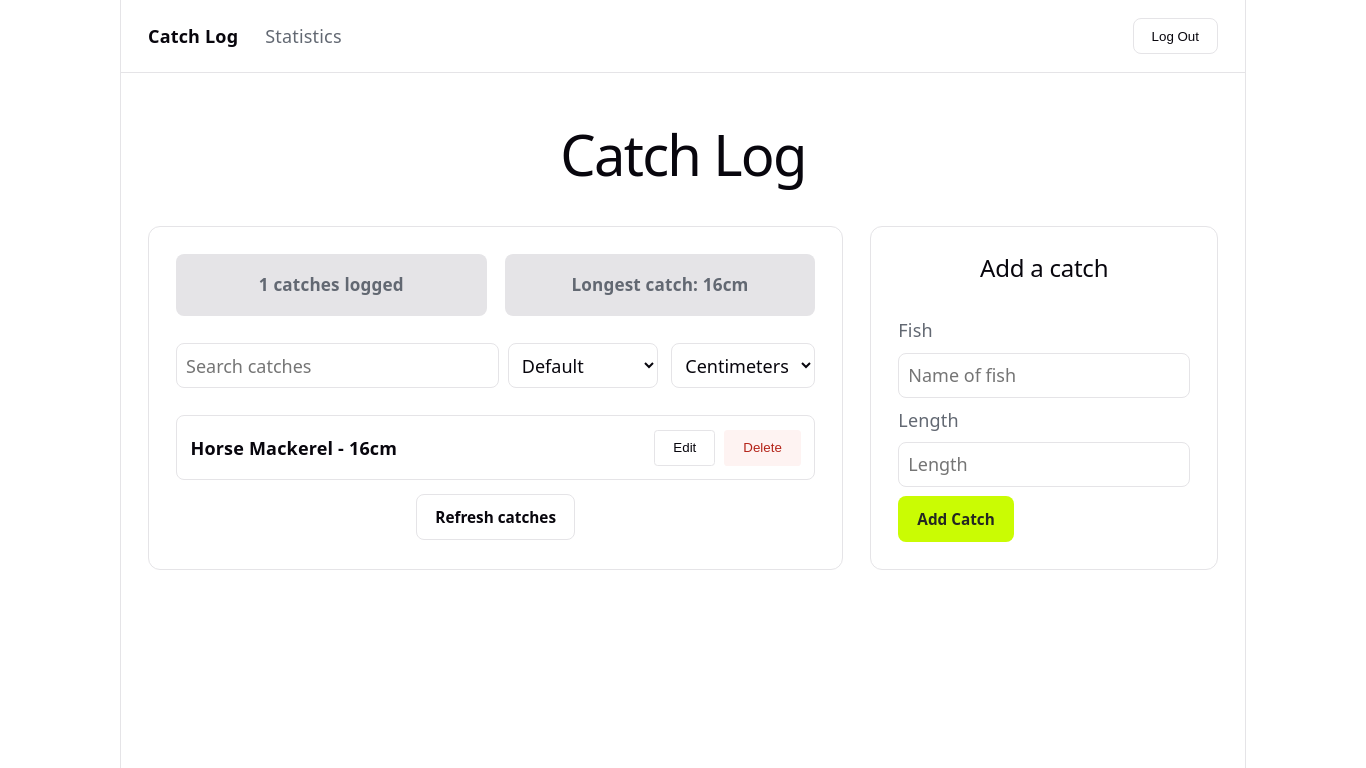
Test: opens the correct catch detail from the log
Click the link "Horse Mackerel" at [262, 448], box [190,436,333,460]
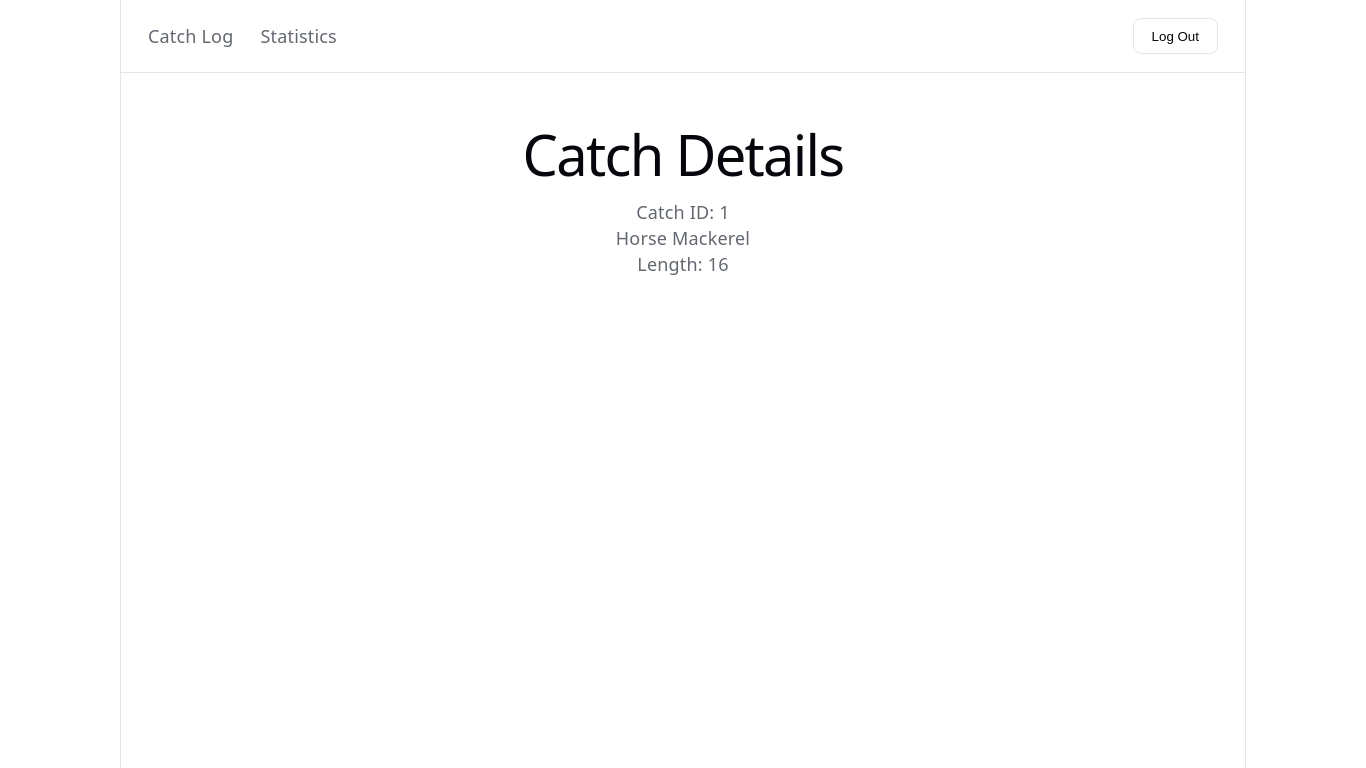
Check: the text "Horse Mackerel" is shown, box [616,226,750,250]
Check: the heading "Catch Details" is shown, box [522,116,844,192]
